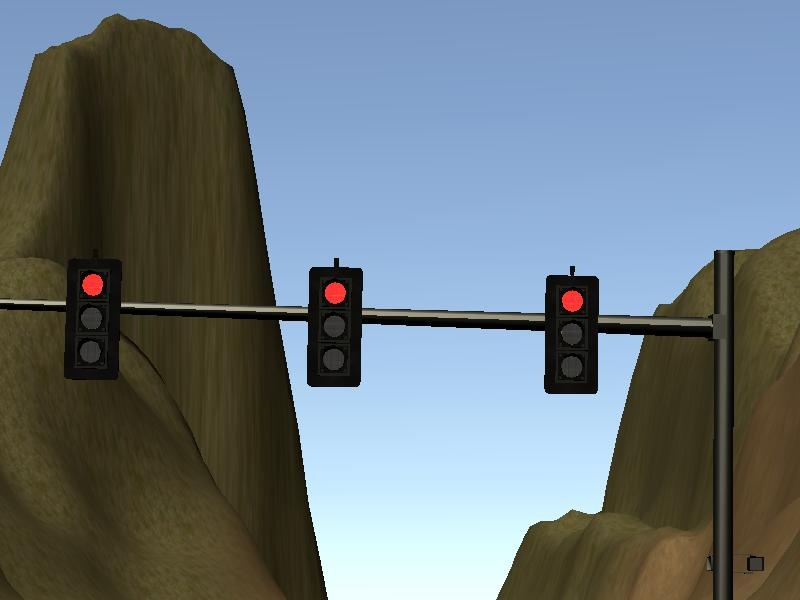RED: (308, 264, 362, 386), (543, 274, 597, 396), (64, 257, 118, 379)
